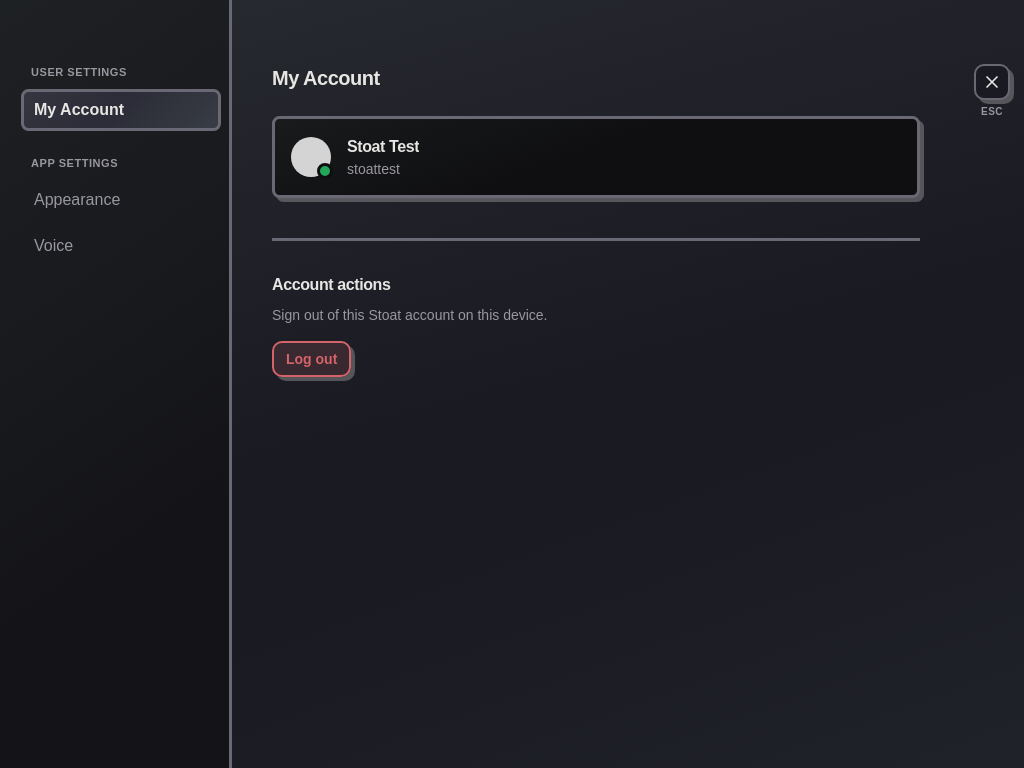
Test: SettingsOverlay › shows a voice stub without Nitro
Step 1. Click the button "Voice" → (121, 246), box [21,225,221,267]
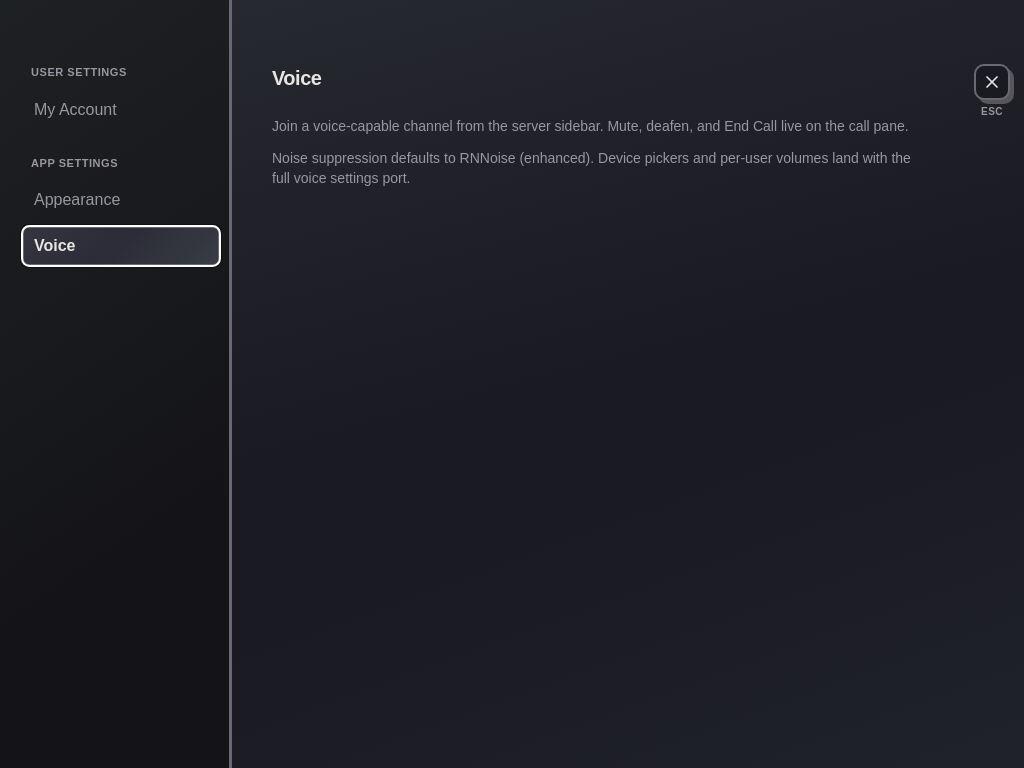
Expected: the heading "Voice" is shown, [272,67,321,89]
Expected: the text "Join a voice-capable channel from the server sidebar. Mute, deafen, and End Call live on the call pane." is shown, [272,118,909,134]
